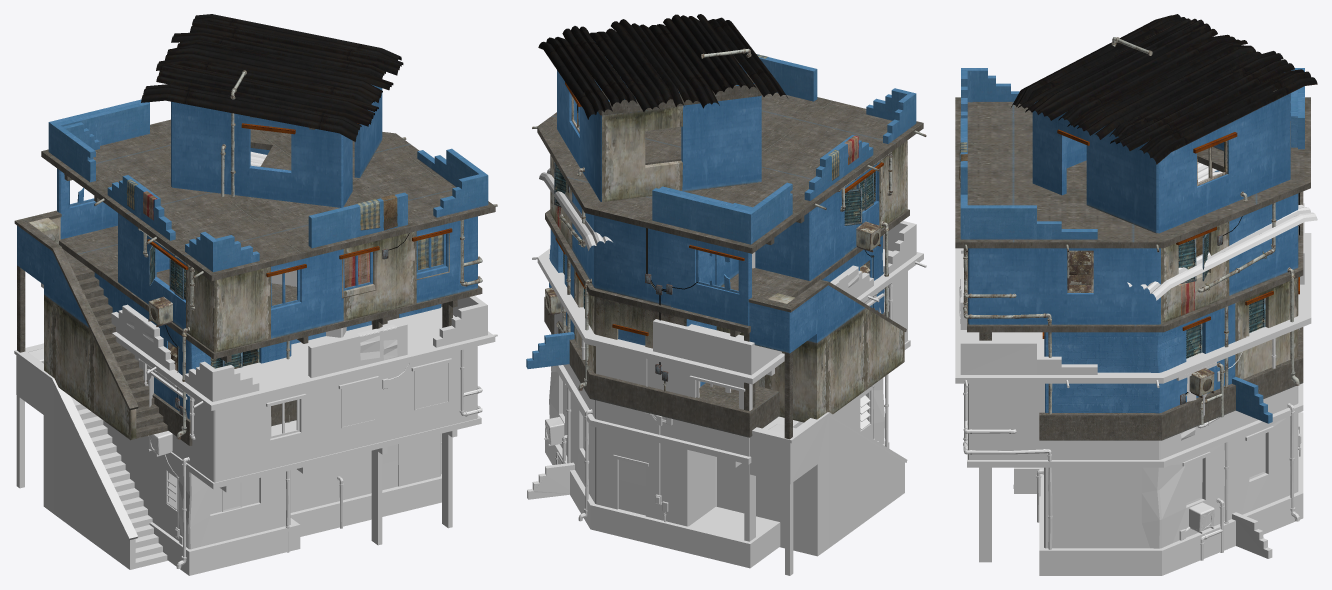
Rendered from hei_prop_heist_plinth.fbx.
The picture shows the model from 3 angles, left to right: view 1: azimuth 30°, elevation 25°; view 2: azimuth 150°, elevation 25°; view 3: azimuth 270°, elevation 25°; orthographic projection. The views are drawn at different scales.
Visible parts, largest first — view 1: Object_LOD0, UTM_Geometry; view 2: Object_LOD0, UTM_Geometry; view 3: Object_LOD0, UTM_Geometry.
Part boxes in pixels (x1,y1,x2,y2): Object_LOD0: [14, 14, 497, 445]; UTM_Geometry: [14, 151, 497, 575]; Object_LOD0: [526, 14, 926, 439]; UTM_Geometry: [527, 168, 926, 575]; Object_LOD0: [955, 14, 1317, 440]; UTM_Geometry: [955, 162, 1317, 575].
Size of the model in its own units: 1342 by 1703 by 1242.
